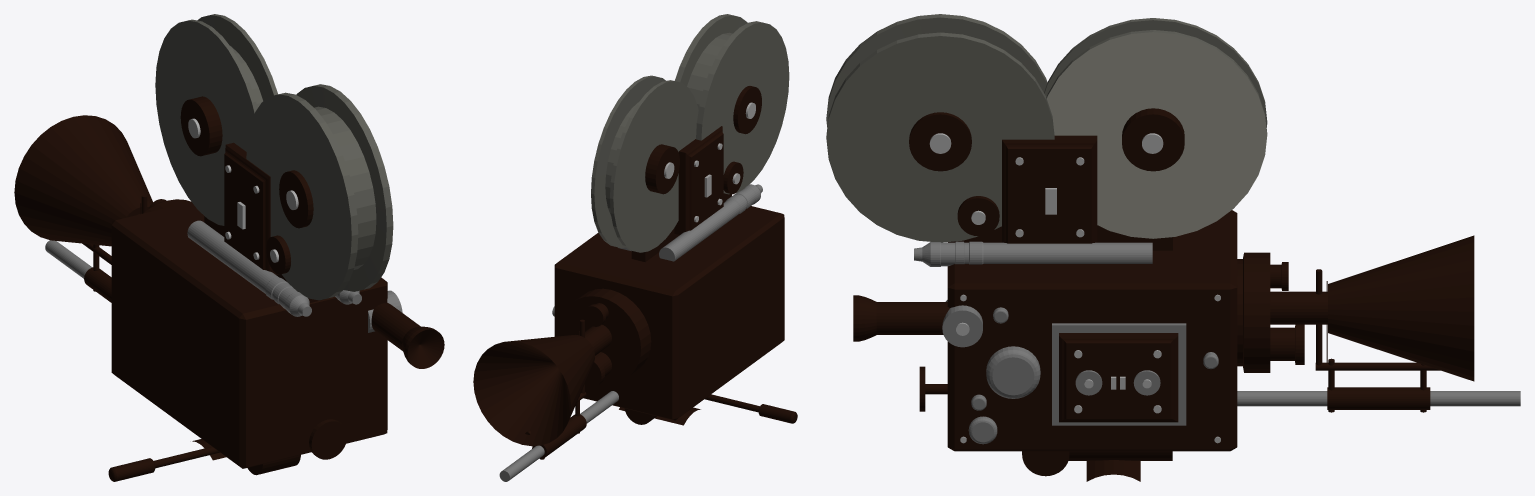
Rendered from camera.fbx.
3 views of the same model, side by side, from view 1: azimuth 30°, elevation 25°; view 2: azimuth 150°, elevation 25°; view 3: azimuth 270°, elevation 25° (orthographic). The views are drawn at different scales.
Parts seen in each view (by area): view 1: cam; view 2: cam; view 3: cam.
Boxes of the visible parts, x1,y1,x2,y2 form: cam: (14,14,444,481); cam: (473,14,797,481); cam: (826,14,1520,481).
Bounding box in the file's own units: 0.5126 × 1.21 × 0.8453.
